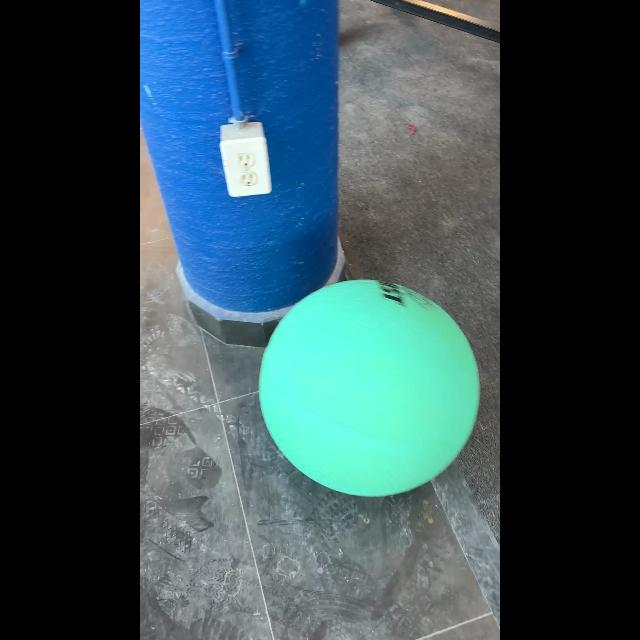ALGAE: (257, 278, 481, 498)
